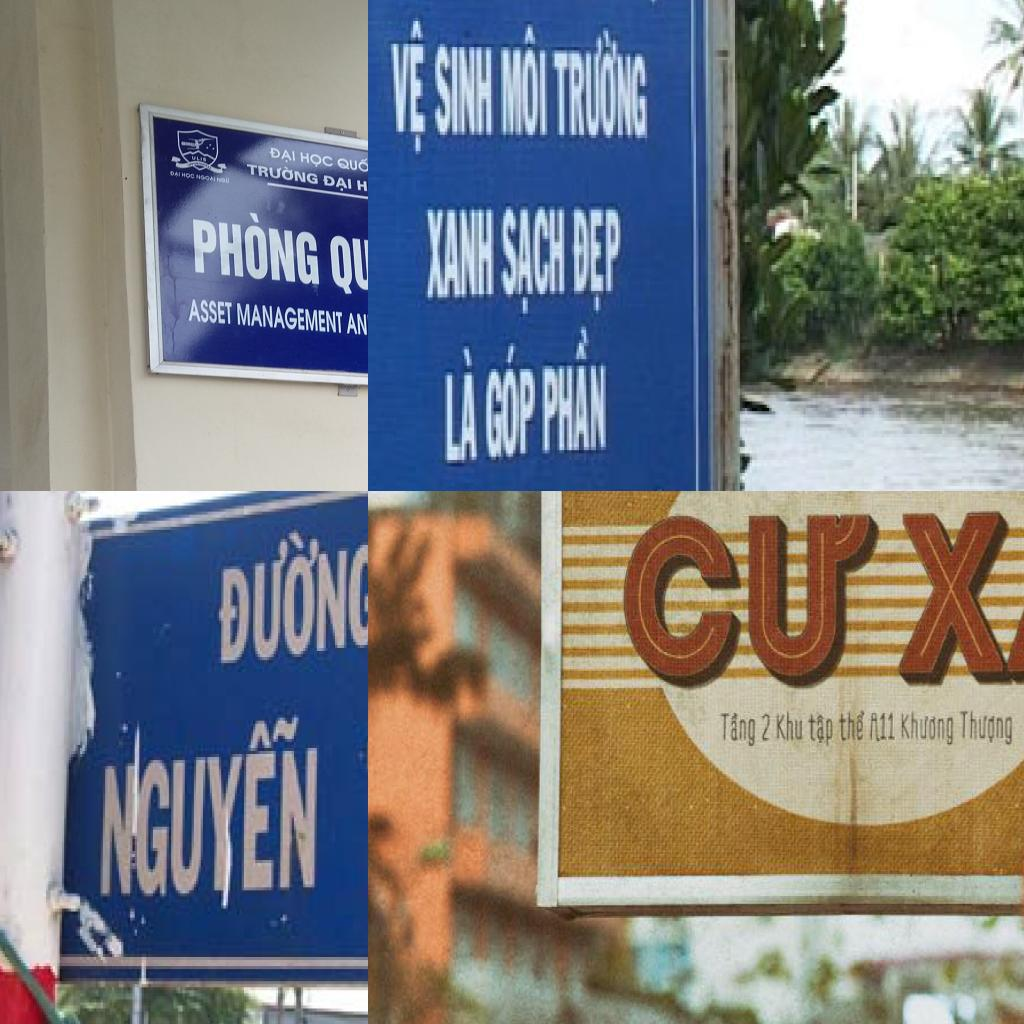text: (621, 502, 878, 693), (96, 708, 328, 906), (889, 491, 1024, 691), (214, 520, 368, 672), (550, 31, 652, 148), (188, 206, 323, 286), (538, 327, 610, 463), (496, 203, 569, 320), (423, 200, 498, 304), (386, 18, 435, 164), (486, 336, 540, 466), (569, 203, 628, 320), (435, 40, 499, 144), (498, 21, 550, 145), (440, 343, 484, 466), (324, 218, 368, 304), (236, 301, 344, 335), (898, 707, 956, 749), (246, 161, 320, 186), (717, 710, 758, 749), (186, 296, 233, 326), (836, 706, 868, 744), (868, 707, 898, 746), (773, 708, 805, 743), (807, 713, 834, 751), (336, 155, 368, 176), (322, 173, 354, 194), (300, 151, 334, 170), (346, 311, 368, 337), (269, 147, 297, 164), (761, 710, 773, 743), (356, 178, 368, 198), (196, 174, 216, 184), (190, 155, 208, 163), (181, 172, 196, 181), (216, 176, 231, 185), (168, 170, 182, 178)
